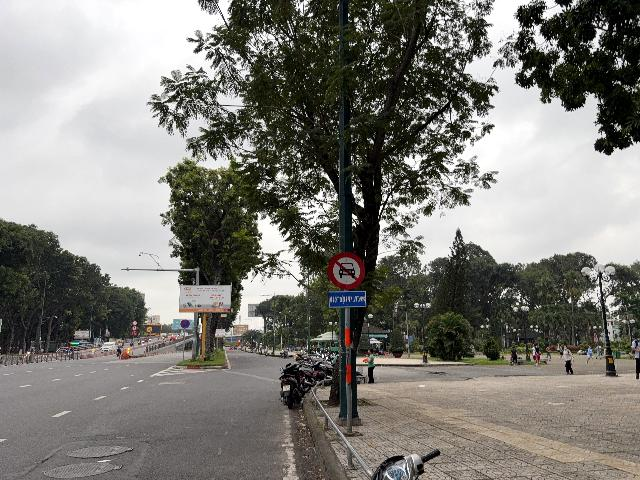cam-o-to: (327, 252, 366, 290)
